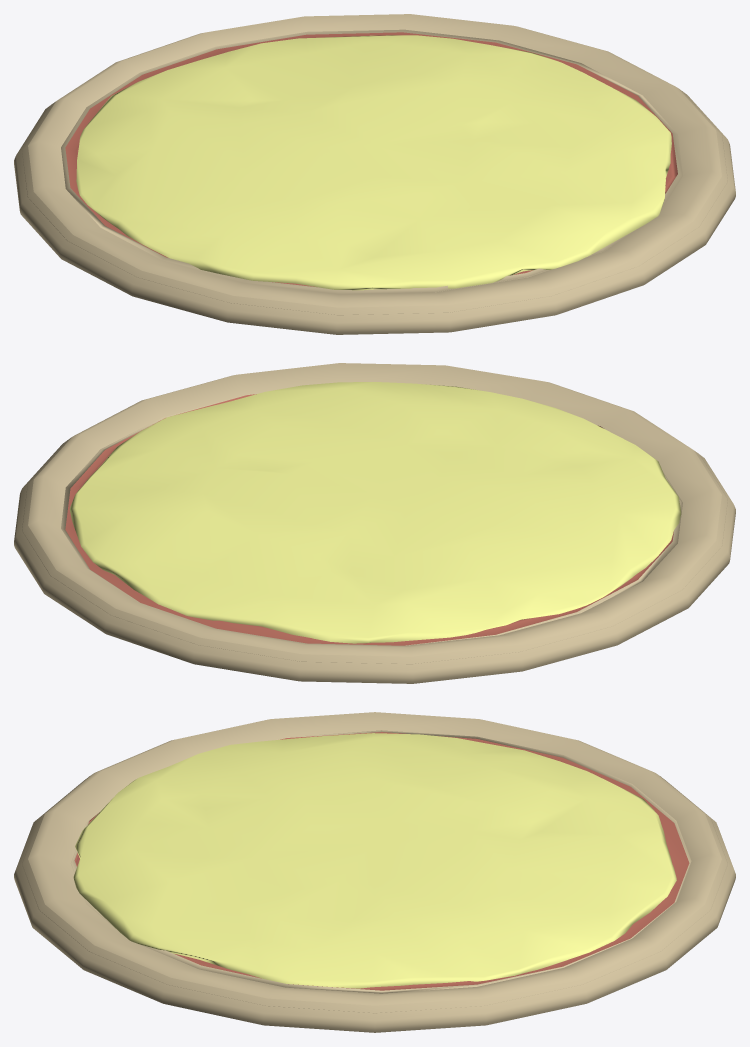
Rendered from thin.gltf.
3 renders of one model, top to bottom at view 1: azimuth 30°, elevation 25°; view 2: azimuth 150°, elevation 25°; view 3: azimuth 270°, elevation 25°, orthographic.
Visible parts, largest first — view 1: cheese, thin; view 2: cheese, thin; view 3: cheese, thin.
Part boxes in pixels (x1,y1,x2,y2): cheese: (76, 35, 671, 290); thin: (14, 14, 735, 334); cheese: (69, 382, 681, 643); thin: (14, 363, 735, 683); cheese: (73, 733, 676, 988); thin: (14, 712, 735, 1032).
Bounding box in the file's own units: 0.0974 × 0.00599 × 0.0974.
